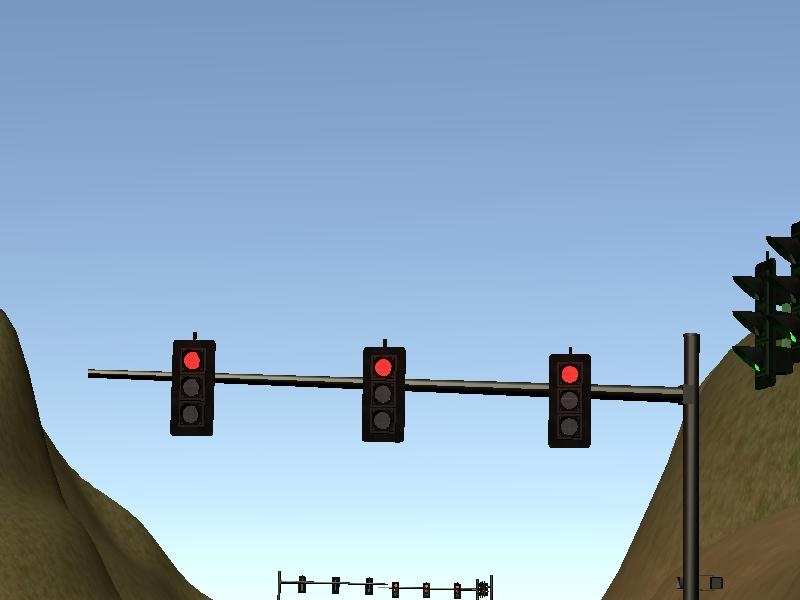Red: (171, 339, 214, 436), (549, 354, 592, 451), (362, 347, 405, 444)
